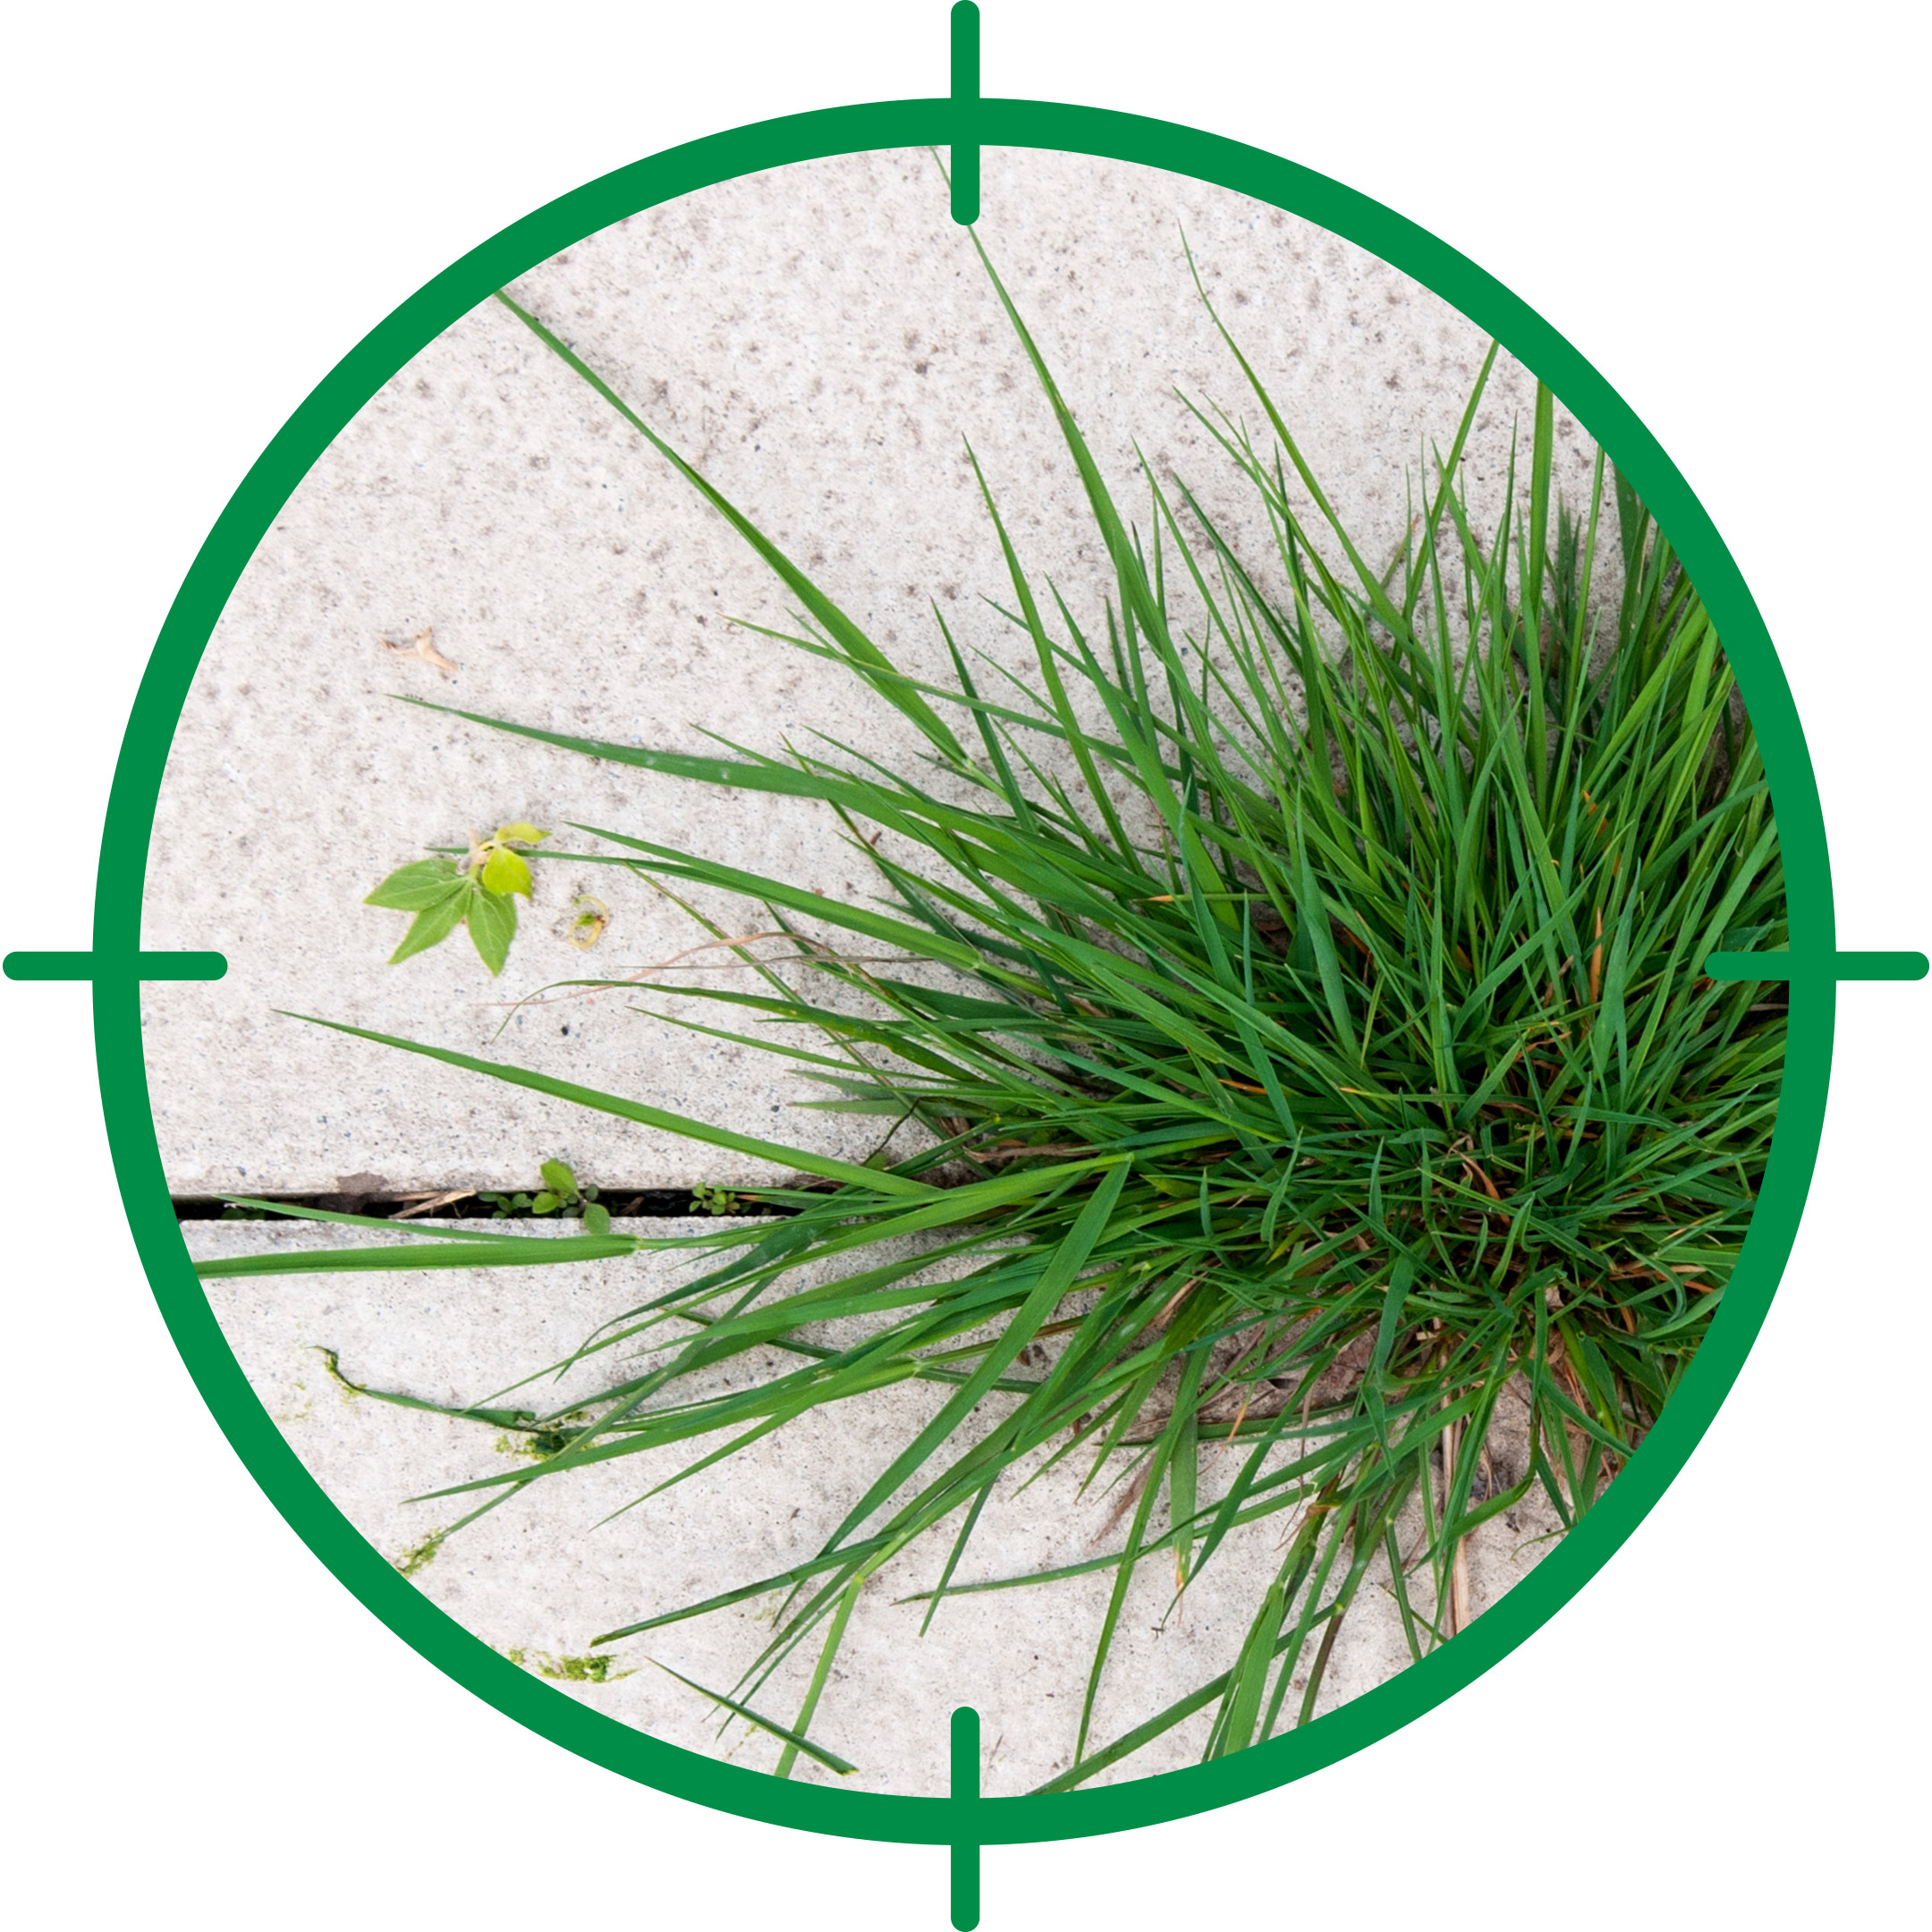crabgrass: (835, 563, 1773, 1481)
